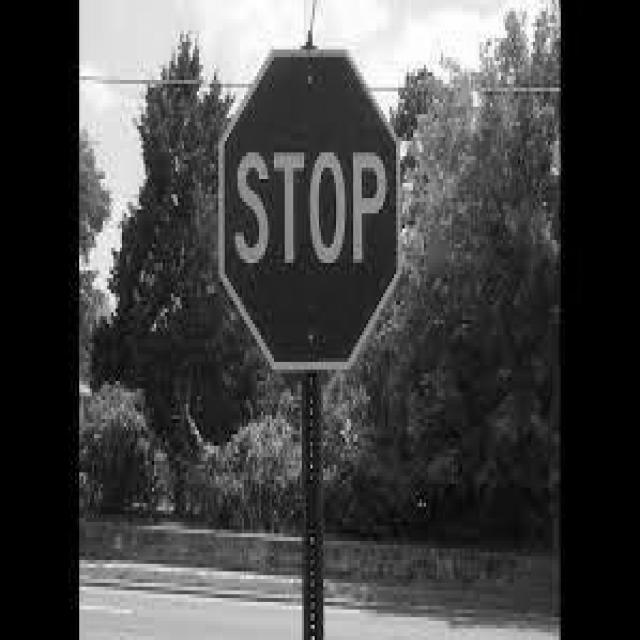stop sign: (222, 49, 402, 365)
